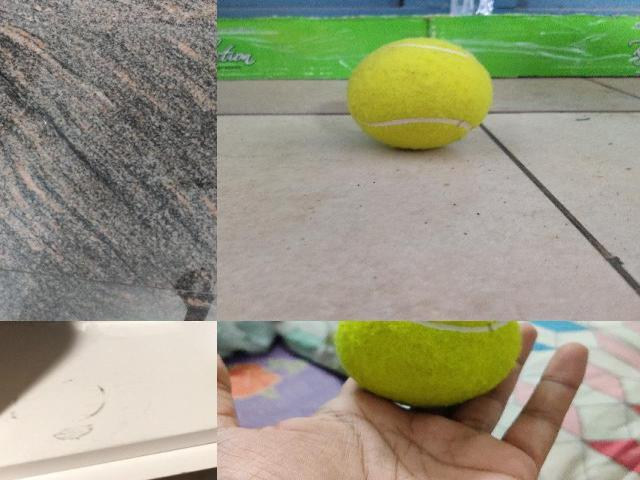tennis-ball: (344, 36, 494, 150), (333, 321, 524, 407)
